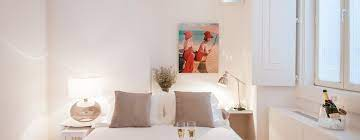Bed: (86, 89, 244, 140)
Lamp: (215, 67, 252, 113)
